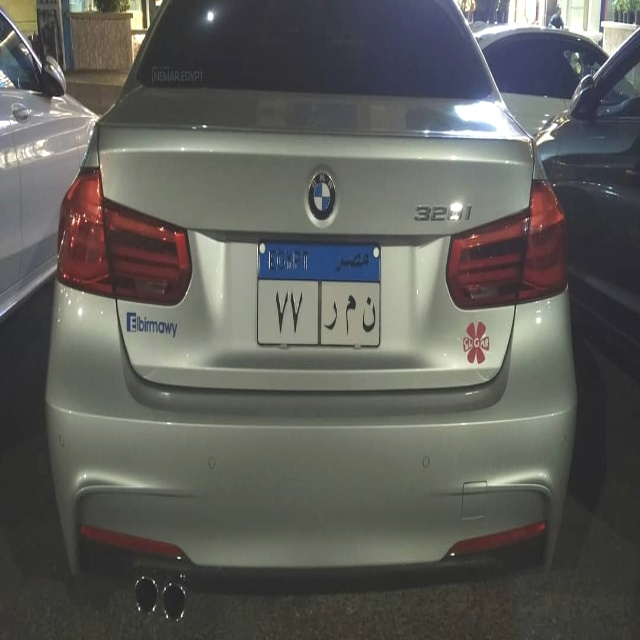License Plate: (253, 233, 383, 352)
